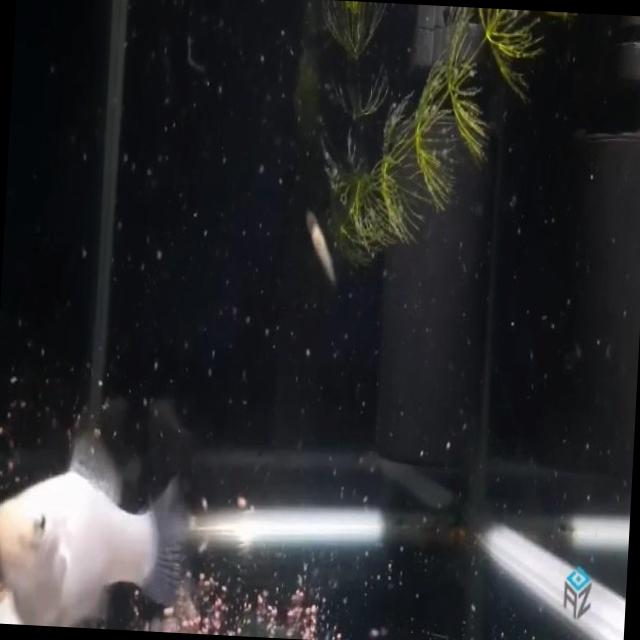PlatyFish: (0, 412, 209, 633)
